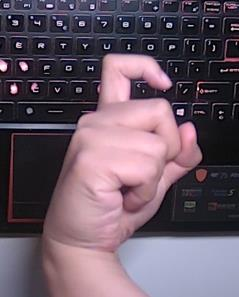anticlockwise: (50, 49, 204, 242)
